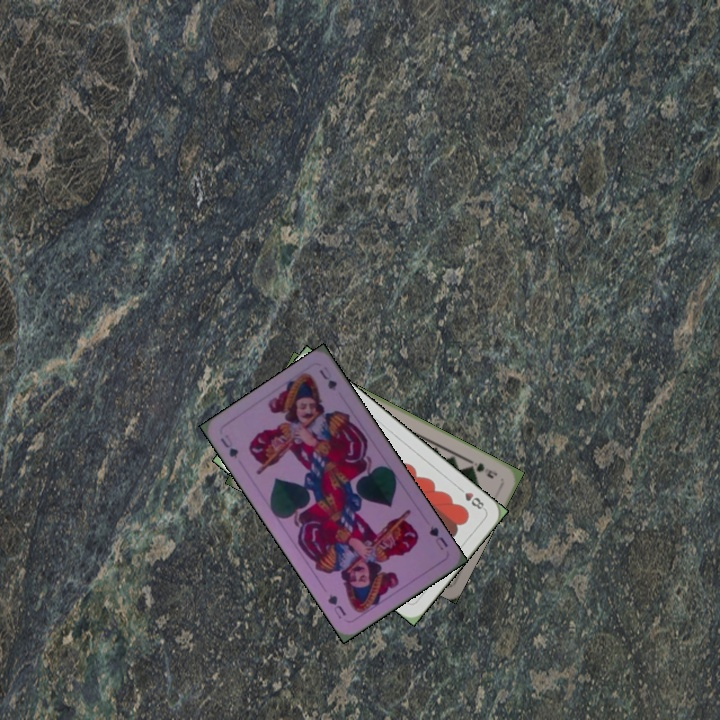G9: (465, 456, 500, 481)
GU: (425, 522, 451, 553), (216, 430, 241, 461)
H8: (454, 483, 488, 513)
